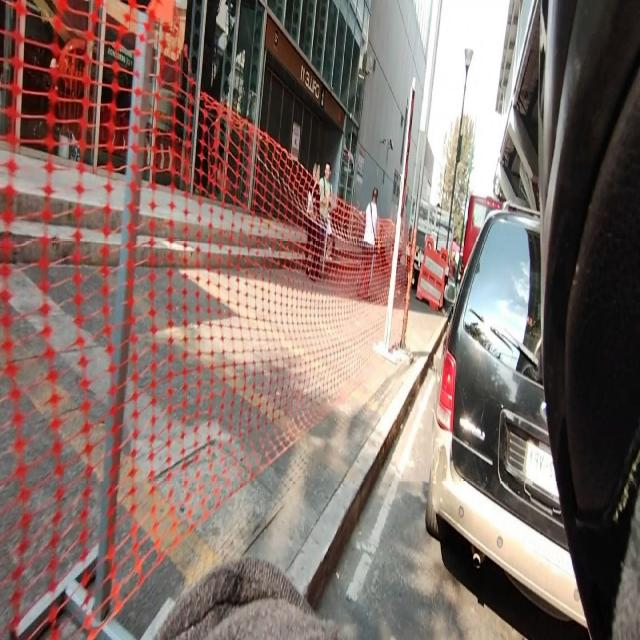adult: (356, 186, 379, 299), (304, 162, 320, 280), (320, 162, 332, 276)
